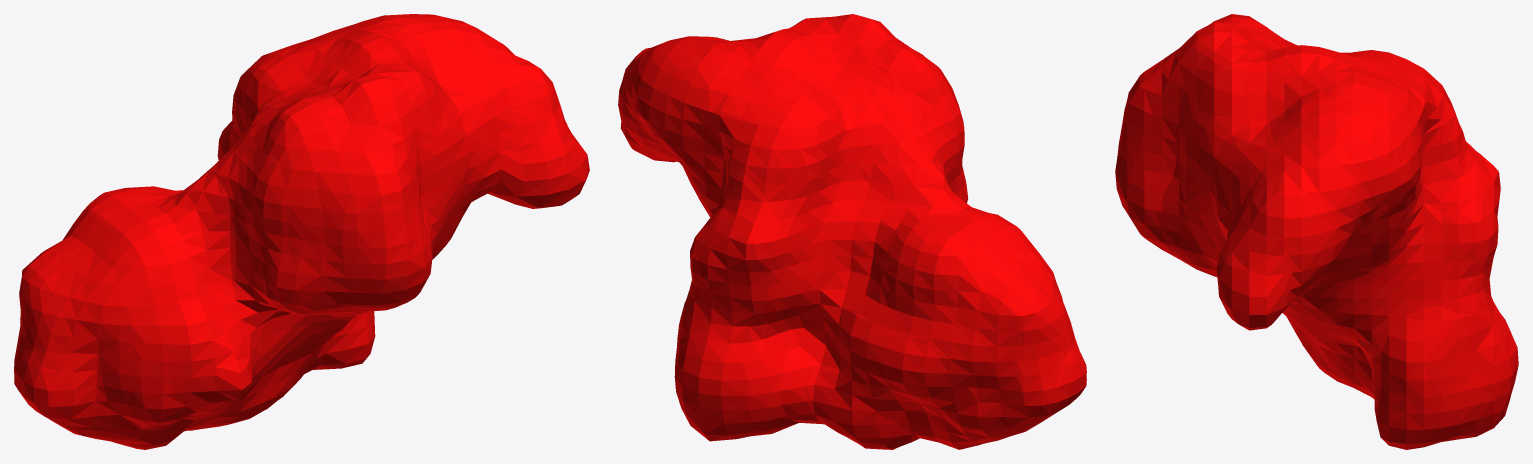
Rendered from hexR_coarse.dae.
3 views of the same model, side by side, from view 1: azimuth 30°, elevation 25°; view 2: azimuth 150°, elevation 25°; view 3: azimuth 270°, elevation 25° (orthographic). The views are drawn at different scales.
Visible parts, largest first — view 1: hexR; view 2: hexR; view 3: hexR.
Part boxes in pixels (bbox=[...]): hexR: bbox=[14, 14, 589, 449]; hexR: bbox=[618, 14, 1086, 449]; hexR: bbox=[1115, 14, 1518, 449].
Bounding box in the file's own units: 76.63 × 52.8 × 48.28.
